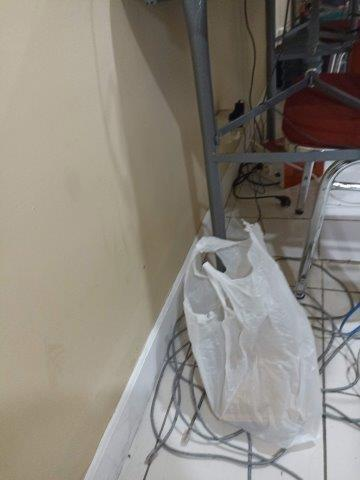plastik: (184, 221, 319, 448)
